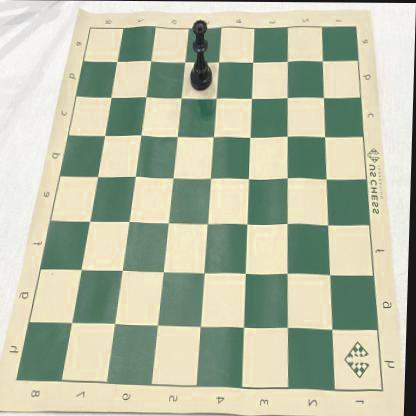black-queen: (190, 19, 214, 92)
